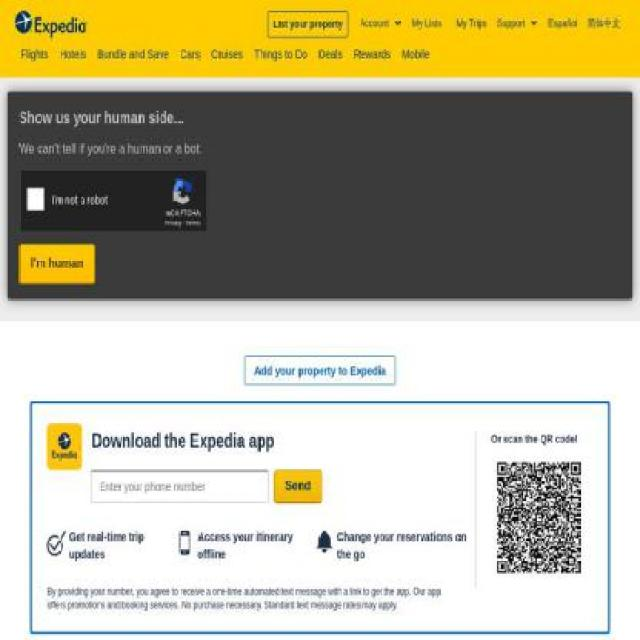button: (244, 354, 396, 386), (18, 244, 96, 284), (92, 40, 175, 68), (268, 10, 349, 38), (15, 10, 89, 39), (249, 40, 313, 68), (273, 469, 322, 503), (348, 40, 397, 68), (491, 11, 544, 35), (355, 11, 407, 35), (205, 40, 249, 68), (396, 40, 436, 68), (15, 40, 54, 68), (406, 11, 451, 35), (54, 40, 92, 68), (582, 11, 626, 35), (312, 40, 348, 68), (451, 11, 492, 35), (543, 11, 583, 35), (174, 40, 206, 68)
field: (91, 469, 269, 503)
